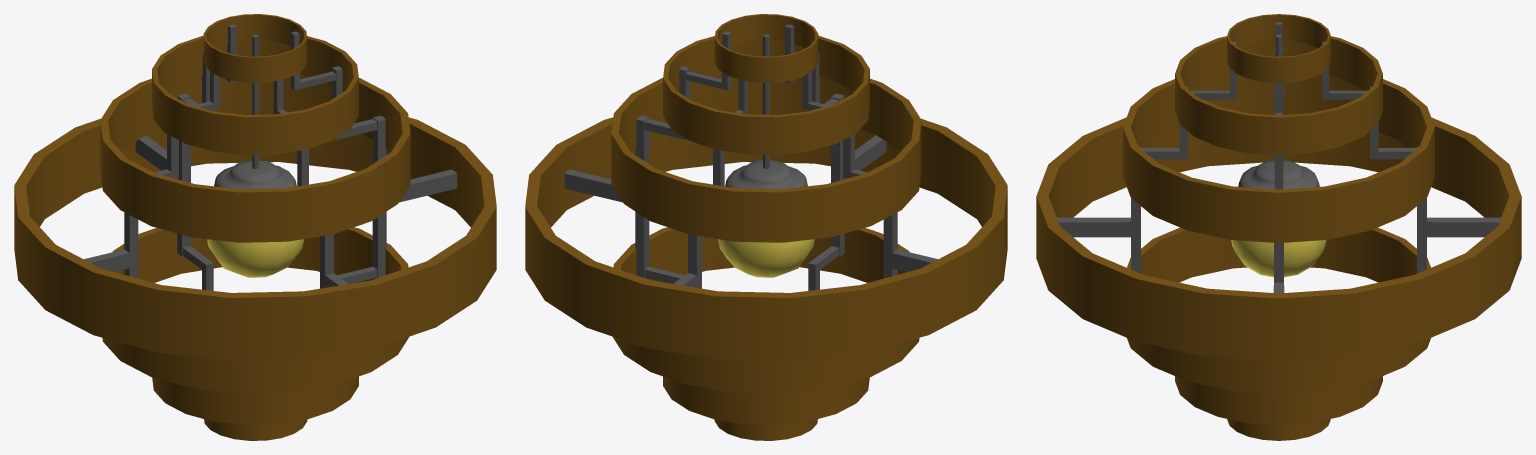
The model's file is LampCatCafe.fbx.
3 renders of one model, left to right at view 1: azimuth 30°, elevation 25°; view 2: azimuth 150°, elevation 25°; view 3: azimuth 270°, elevation 25°, orthographic.
Parts seen in each view (by area): view 1: Case, Lamp, Wire; view 2: Case, Lamp, Wire; view 3: Case, Lamp.
Part boxes in pixels (bbox=[...]): Case: bbox=[14, 14, 496, 440]; Lamp: bbox=[207, 160, 303, 277]; Wire: bbox=[252, 34, 258, 168]; Case: bbox=[525, 14, 1007, 440]; Lamp: bbox=[718, 160, 814, 277]; Wire: bbox=[763, 34, 769, 168]; Case: bbox=[1036, 14, 1521, 440]; Lamp: bbox=[1231, 160, 1326, 277].
Size of the model in its own units: 7 by 6.1 by 7.
